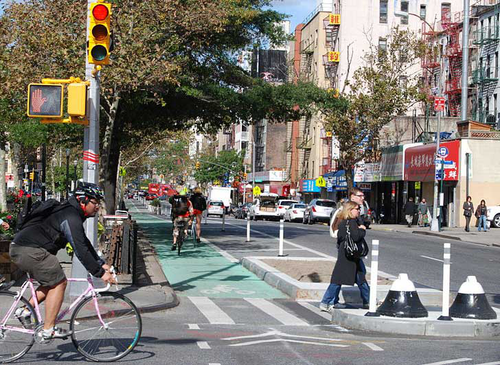bikerider: (1, 181, 150, 365), (164, 182, 192, 255), (187, 185, 213, 246)
